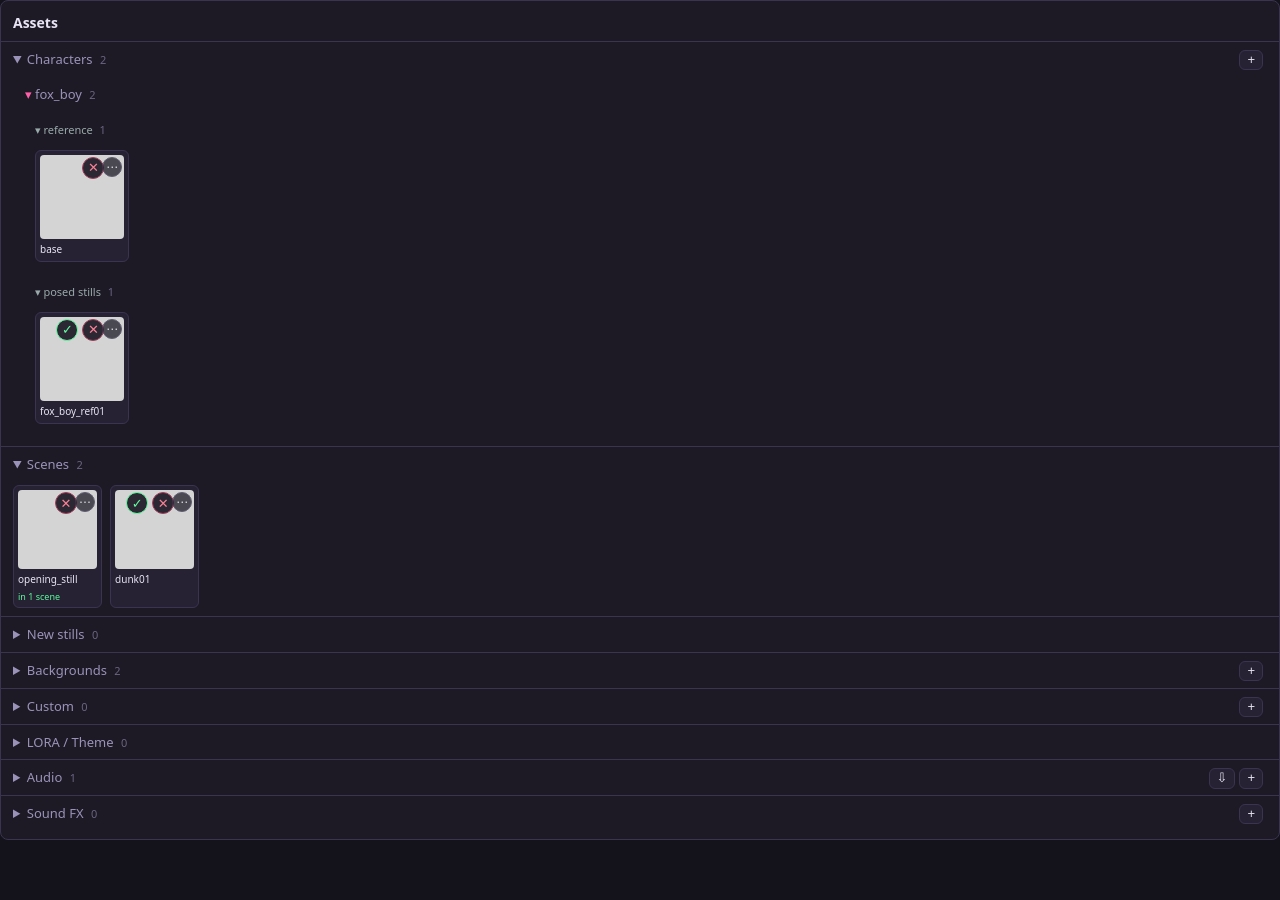
it: AssetsPane › a refused delete shows the server's message in the error banner
Click the button named "delete opening_still".
click(66, 503)  # box 55,492 -> 77,514
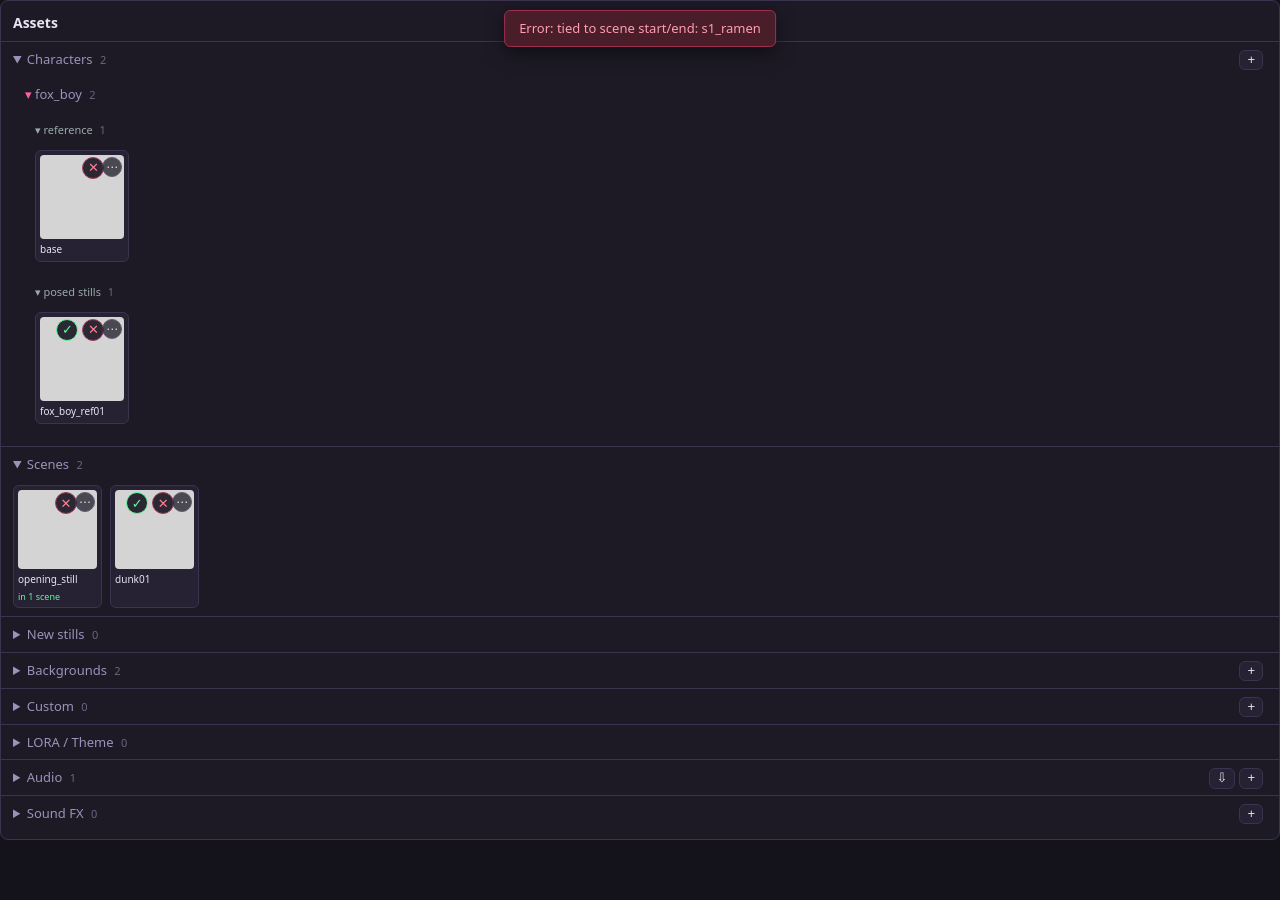
Now the text "Error: tied to scene start/end: s1_ramen" is shown, box 504,10 -> 776,47
